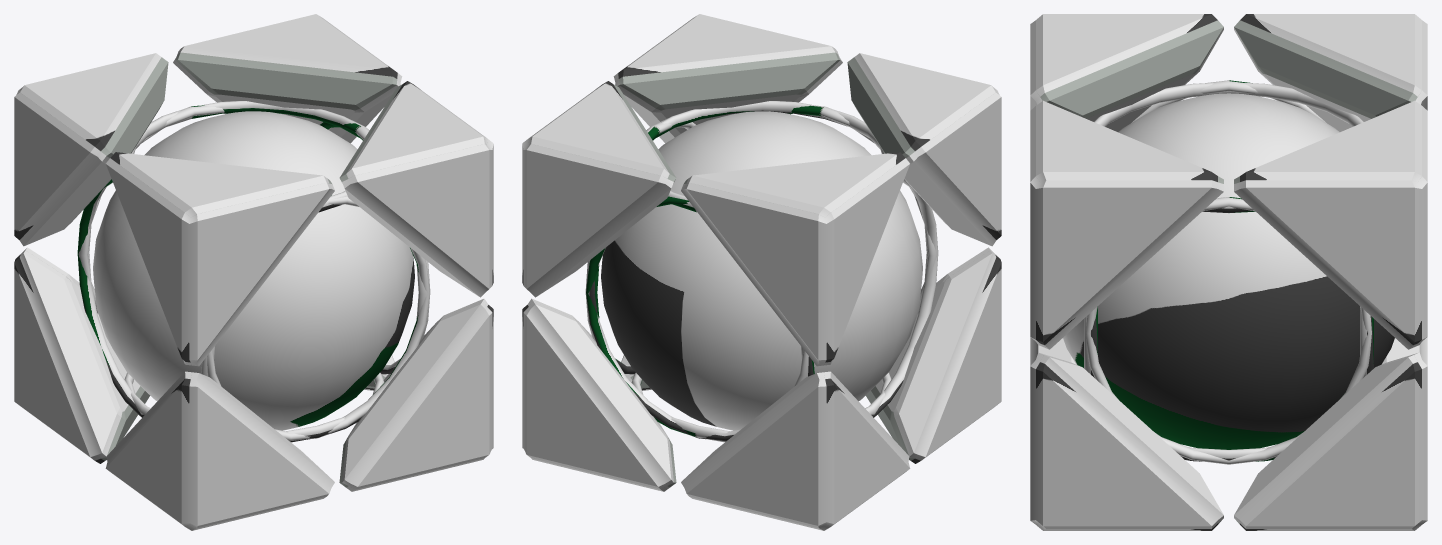
Rendered from PortalCube.glb.
3 renders of one model, left to right at view 1: azimuth 30°, elevation 25°; view 2: azimuth 150°, elevation 25°; view 3: azimuth 270°, elevation 25°, orthographic. The views are drawn at different scales.
Parts seen in each view (by area): view 1: Cube, Lens, Metalrings; view 2: Cube, Lens, Metalrings; view 3: Cube, Lens, Metalrings.
Boxes of the visible parts, x1,y1,x2,y2 form: Cube: (14,14,493,530); Lens: (93,111,414,430); Metalrings: (77,101,430,442); Cube: (522,14,1001,530); Lens: (601,111,922,430); Metalrings: (585,101,938,442); Cube: (1030,14,1427,530); Lens: (1063,93,1394,449); Metalrings: (1084,80,1373,464).
Bounding box in the file's own units: 0.2008 × 0.1989 × 0.1997.
1 material, 1 textured.
